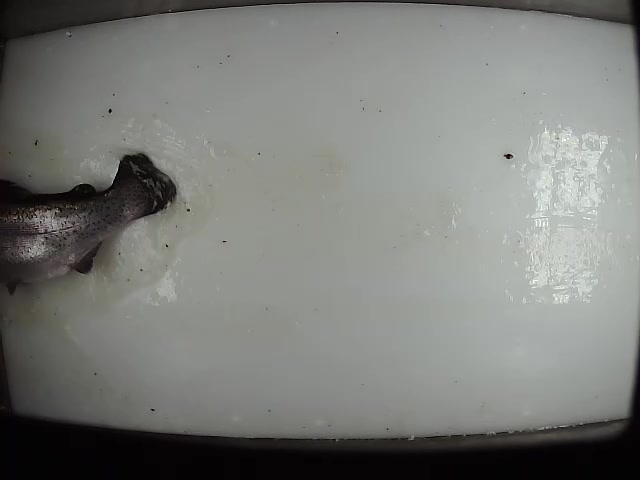fish: (1, 151, 178, 297)
